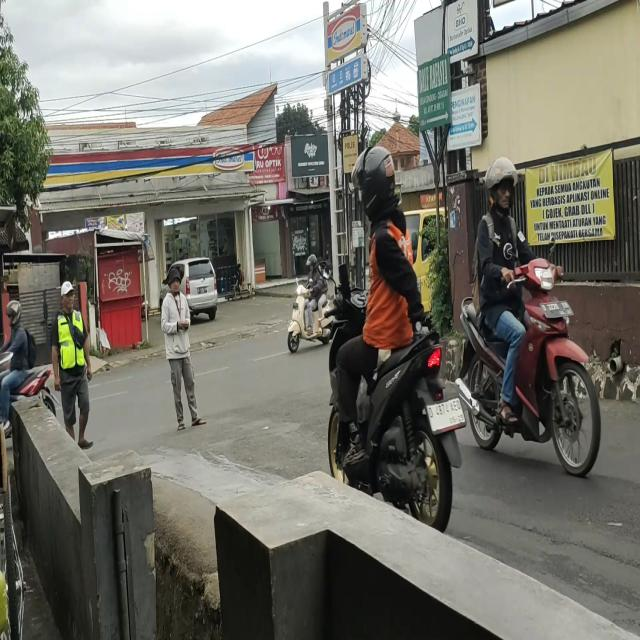helmet: (351, 154, 395, 211), (485, 159, 518, 206), (8, 298, 22, 330), (308, 255, 317, 271)
